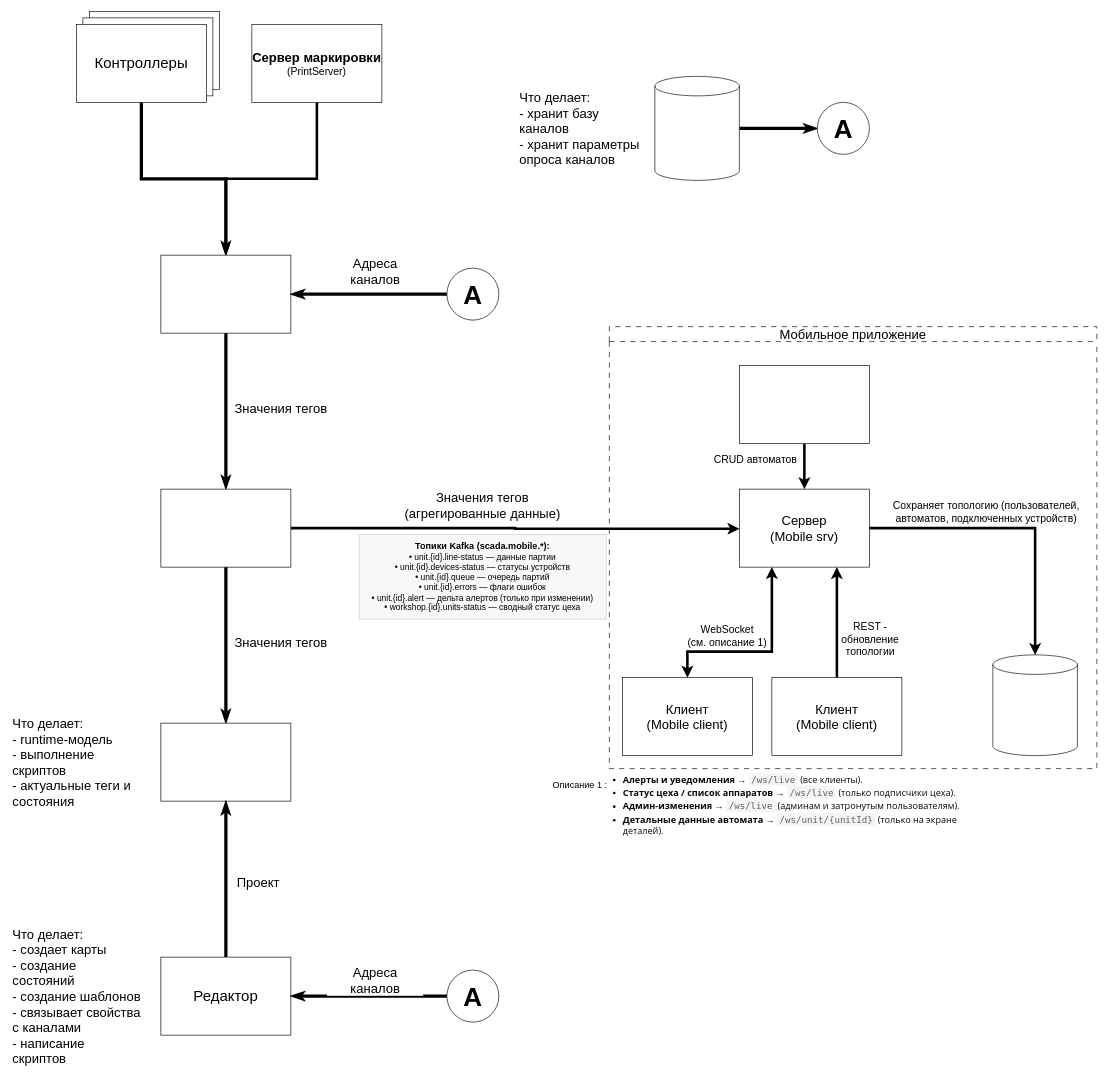
The diagram is 1108 pixels wide and 1078 high, and some of its shapes have lost their labels. The centre of each missing label's shape, as x and y in pixels:
"Gateway" goes at (225,293).
"Kafka" goes at (225,527).
"Админ панель" goes at (804,404).
"База каналов" goes at (696,128).
"Монитор" goes at (225,761).
"Хранение топологии (Mobile db)" goes at (1034,705).
